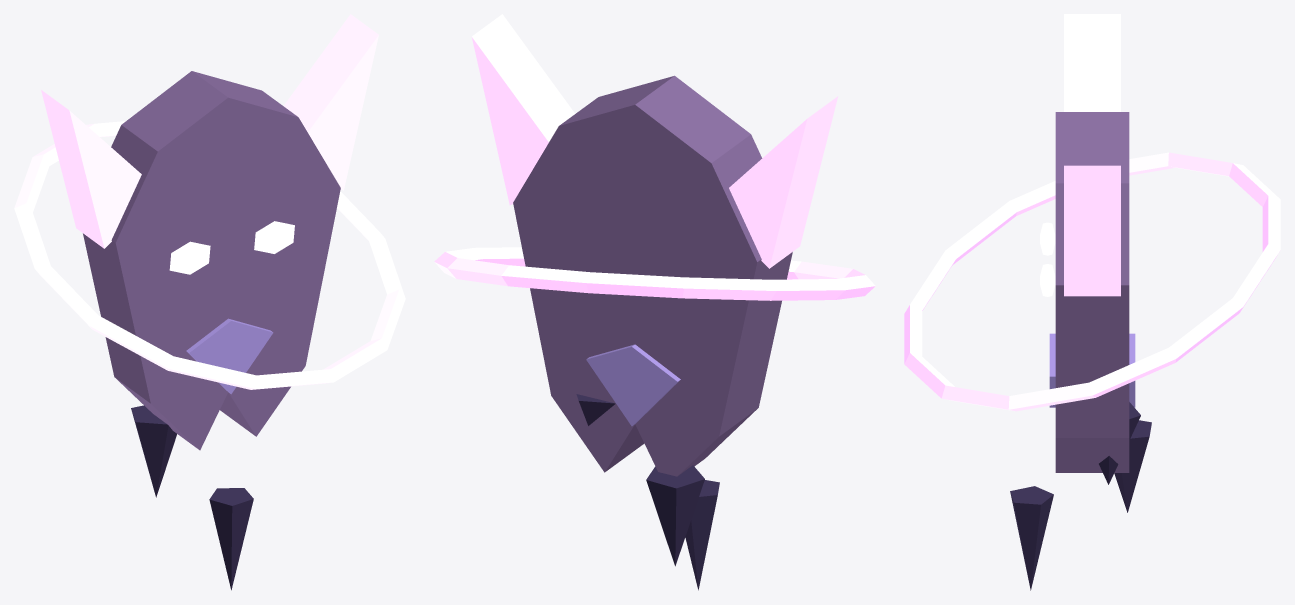
Rendered from fear.glb.
The picture shows the model from 3 angles, left to right: view 1: azimuth 30°, elevation 25°; view 2: azimuth 150°, elevation 25°; view 3: azimuth 270°, elevation 25°; orthographic projection. The views are drawn at different scales.
Visible parts, largest first — view 1: FearMask, DreadAura, Horn_1, Horn_-1, MouthVoid, DreadWake_2, DreadWake_1, Eye_-1, Eye_1; view 2: FearMask, DreadAura, Horn_1, Horn_-1, MouthVoid, DreadWake_1, DreadWake_2, DreadWake_0; view 3: FearMask, DreadAura, Horn_1, Horn_-1, DreadWake_2, DreadWake_1, MouthVoid, DreadWake_0.
Boxes of the visible parts, left/top/right/bottom form: FearMask: left=83, top=71, right=340, bottom=450; DreadAura: left=14, top=121, right=405, bottom=389; Horn_1: left=283, top=14, right=378, bottom=190; Horn_-1: left=41, top=90, right=141, bottom=248; MouthVoid: left=186, top=318, right=273, bottom=394; DreadWake_2: left=209, top=488, right=253, bottom=590; DreadWake_1: left=131, top=405, right=176, bottom=497; Eye_-1: left=169, top=241, right=210, bottom=274; Eye_1: left=254, top=221, right=294, bottom=253; FearMask: left=513, top=75, right=792, bottom=476; DreadAura: left=434, top=247, right=875, bottom=300; Horn_1: left=471, top=14, right=574, bottom=205; Horn_-1: left=729, top=96, right=838, bottom=268; MouthVoid: left=586, top=344, right=680, bottom=426; DreadWake_1: left=646, top=465, right=704, bottom=566; DreadWake_2: left=685, top=480, right=719, bottom=590; DreadWake_0: left=576, top=394, right=615, bottom=425; FearMask: left=1055, top=112, right=1129, bottom=472; DreadAura: left=904, top=152, right=1280, bottom=411; Horn_1: left=1064, top=165, right=1120, bottom=296; Horn_-1: left=1064, top=14, right=1120, bottom=111; DreadWake_2: left=1010, top=486, right=1053, bottom=590; DreadWake_1: left=1114, top=420, right=1151, bottom=512; MouthVoid: left=1049, top=333, right=1135, bottom=407; DreadWake_0: left=1099, top=402, right=1140, bottom=484.
Bounding box in the file's own units: 0.9967 × 1.37 × 0.9231.
